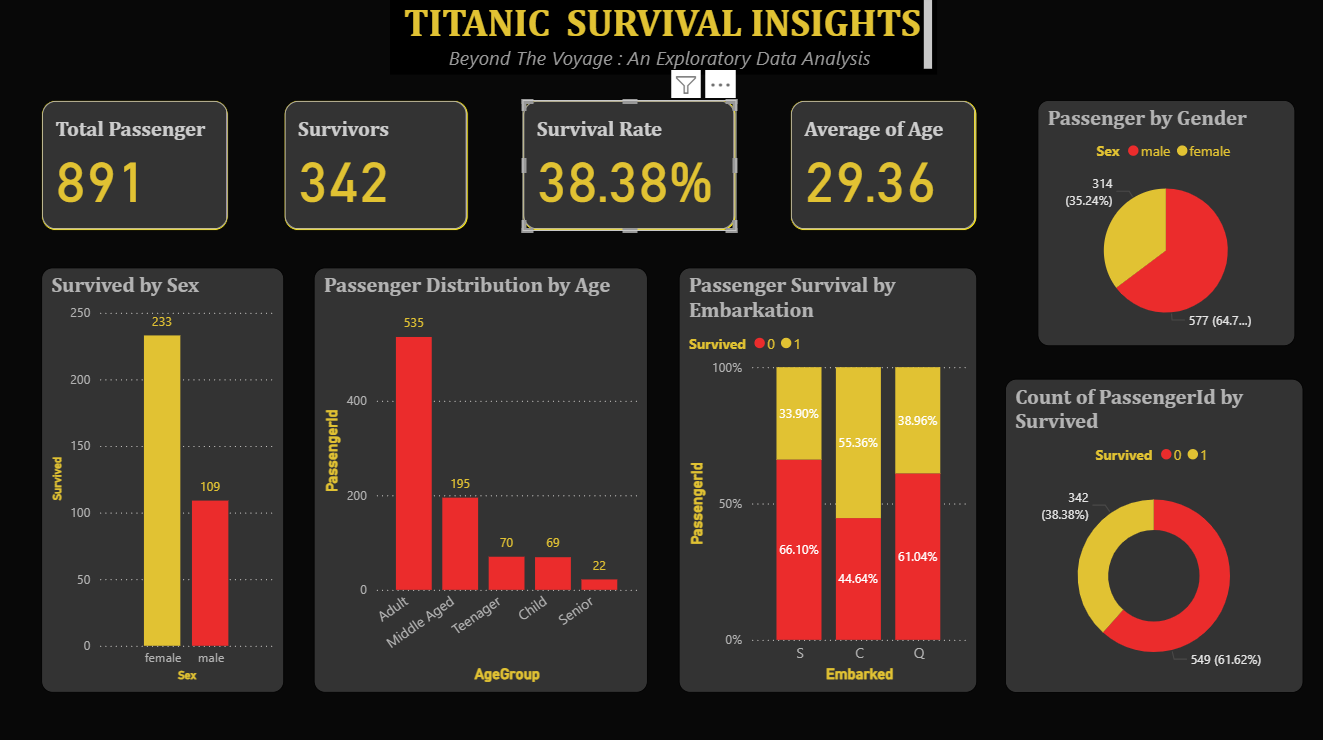

This screenshot's page, from the dashboard's own definition file:
{"tool":"powerbi","page":{"name":"Page 1","canvas":[1280,720],"ordinal":0},"visuals":[{"type":"textbox","box":[376,0,528.3,76.8],"z":0},{"type":"cardVisual","fields":{"Data":["CountNonNull(cleaned_titanic_EDA.PassengerId)"]},"box":[39.8,101.5,181.1,126.2],"z":1000},{"type":"cardVisual","fields":{"Data":["Sum(cleaned_titanic_EDA.Survived)"]},"box":[281.3,101.5,178.4,126.2],"z":2000},{"type":"cardVisual","fields":{"Data":["cleaned_titanic_EDA.Survival Rate"]},"box":[522.8,101.5,205.8,126.2],"z":3000},{"type":"cardVisual","fields":{"Data":["Avg(cleaned_titanic_EDA.Age)"]},"box":[789,101.5,181.1,126.2],"z":4000},{"type":"clusteredColumnChart","fields":{"Category":["cleaned_titanic_EDA.Sex"],"Y":["Sum(cleaned_titanic_EDA.Survived)"]},"box":[39.8,263.5,234.6,410.3],"z":5000},{"type":"clusteredColumnChart","title":"Passenger Distribution by Age","fields":{"Category":["cleaned_titanic_EDA.AgeGroup"],"Y":["CountNonNull(cleaned_titanic_EDA.PassengerId)"]},"box":[303.3,263.5,322.5,410.3],"z":6000},{"type":"hundredPercentStackedColumnChart","title":" Passenger Survival by Embarkation","fields":{"Category":["cleaned_titanic_EDA.Embarked"],"Y":["CountNonNull(cleaned_titanic_EDA.PassengerId)"],"Series":["cleaned_titanic_EDA.Survived"]},"box":[654.5,263.5,288.2,410.3],"z":7000},{"type":"pieChart","title":" Passenger by Gender","fields":{"Category":["cleaned_titanic_EDA.Sex"],"Y":["CountNonNull(cleaned_titanic_EDA.PassengerId)"]},"box":[1001.3,101.3,248.5,237.7],"z":8000},{"type":"donutChart","fields":{"Category":["cleaned_titanic_EDA.Survived"],"Y":["CountNonNull(cleaned_titanic_EDA.PassengerId)"]},"box":[970.2,370.5,288.2,303.3],"z":9000}]}

Visuals, with their boxes in screenshot pixels (x1, y1, x2, y2), scaled from the page's 1280x720 canvas onto the 1323x740 screenshot:
textbox: bbox(389, 0, 935, 79)
cardVisual - CountNonNull(cleaned_titanic_EDA.PassengerId): bbox(41, 104, 228, 234)
cardVisual - Sum(cleaned_titanic_EDA.Survived): bbox(291, 104, 475, 234)
cardVisual - cleaned_titanic_EDA.Survival Rate: bbox(540, 104, 753, 234)
cardVisual - Avg(cleaned_titanic_EDA.Age): bbox(816, 104, 1003, 234)
clusteredColumnChart - cleaned_titanic_EDA.Sex x Sum(cleaned_titanic_EDA.Survived): bbox(41, 271, 284, 693)
"Passenger Distribution by Age" clusteredColumnChart: bbox(313, 271, 647, 693)
" Passenger Survival by Embarkation" hundredPercentStackedColumnChart: bbox(676, 271, 974, 693)
" Passenger by Gender" pieChart: bbox(1035, 104, 1292, 348)
donutChart - cleaned_titanic_EDA.Survived x CountNonNull(cleaned_titanic_EDA.PassengerId): bbox(1003, 381, 1301, 693)
